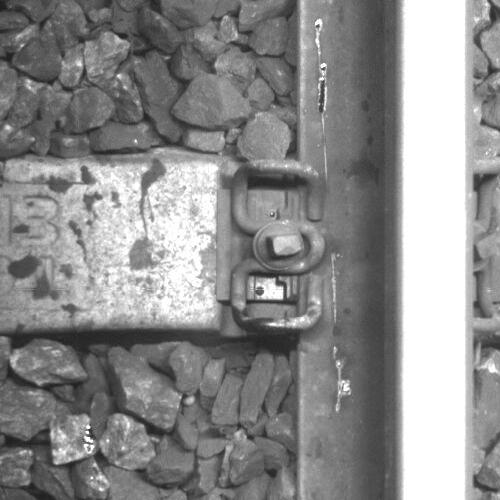rail: (396, 1, 473, 500)
tie_concr: (1, 159, 297, 324)
vossloh: (217, 157, 327, 332)
